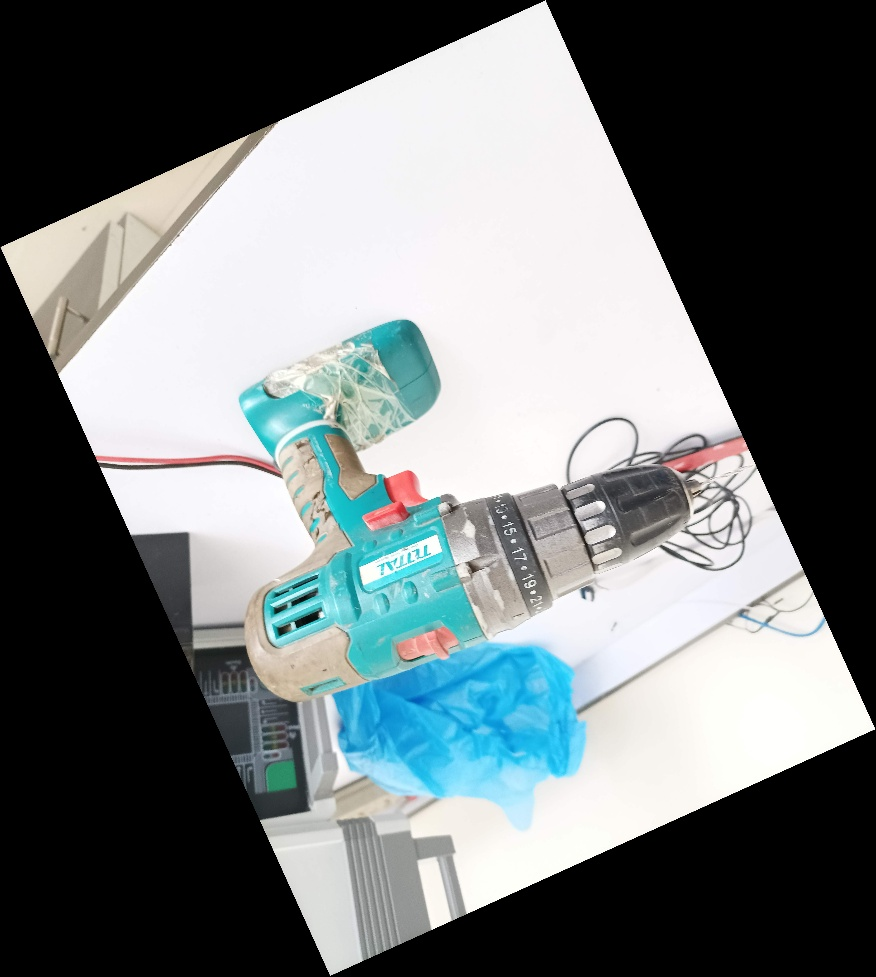driller: (234, 314, 743, 706)
